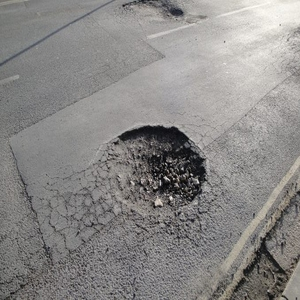pothole: (104, 124, 210, 219), (119, 1, 189, 24)
